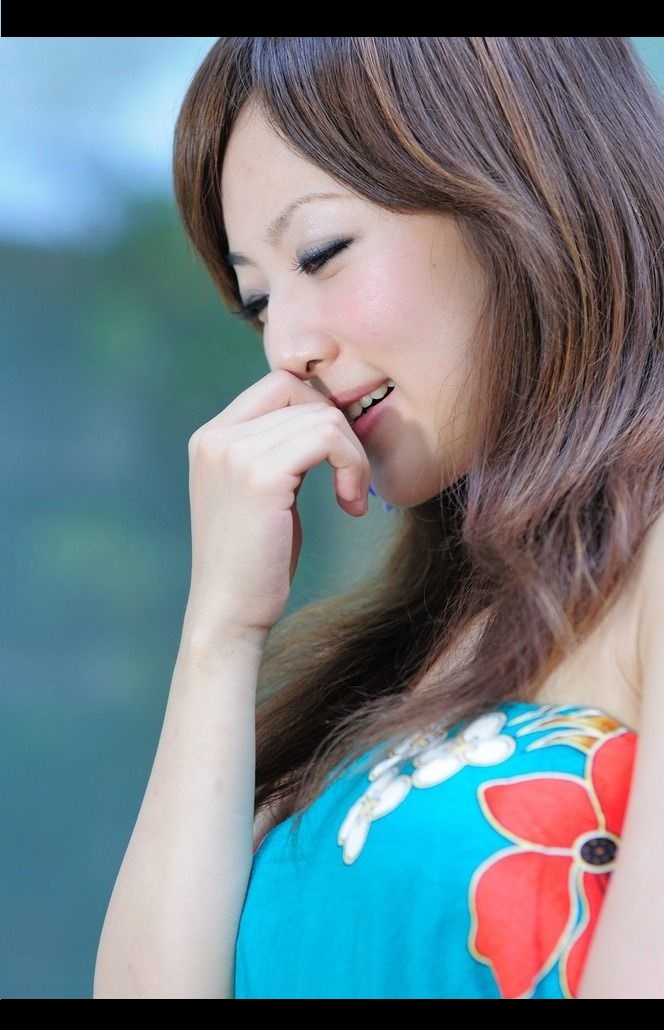face: (219, 82, 462, 517)
